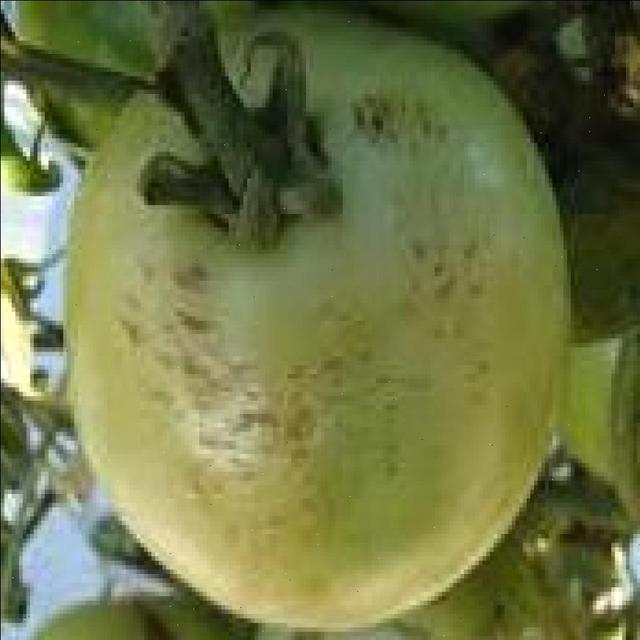Cracking Fruit: (50, 39, 305, 273)
